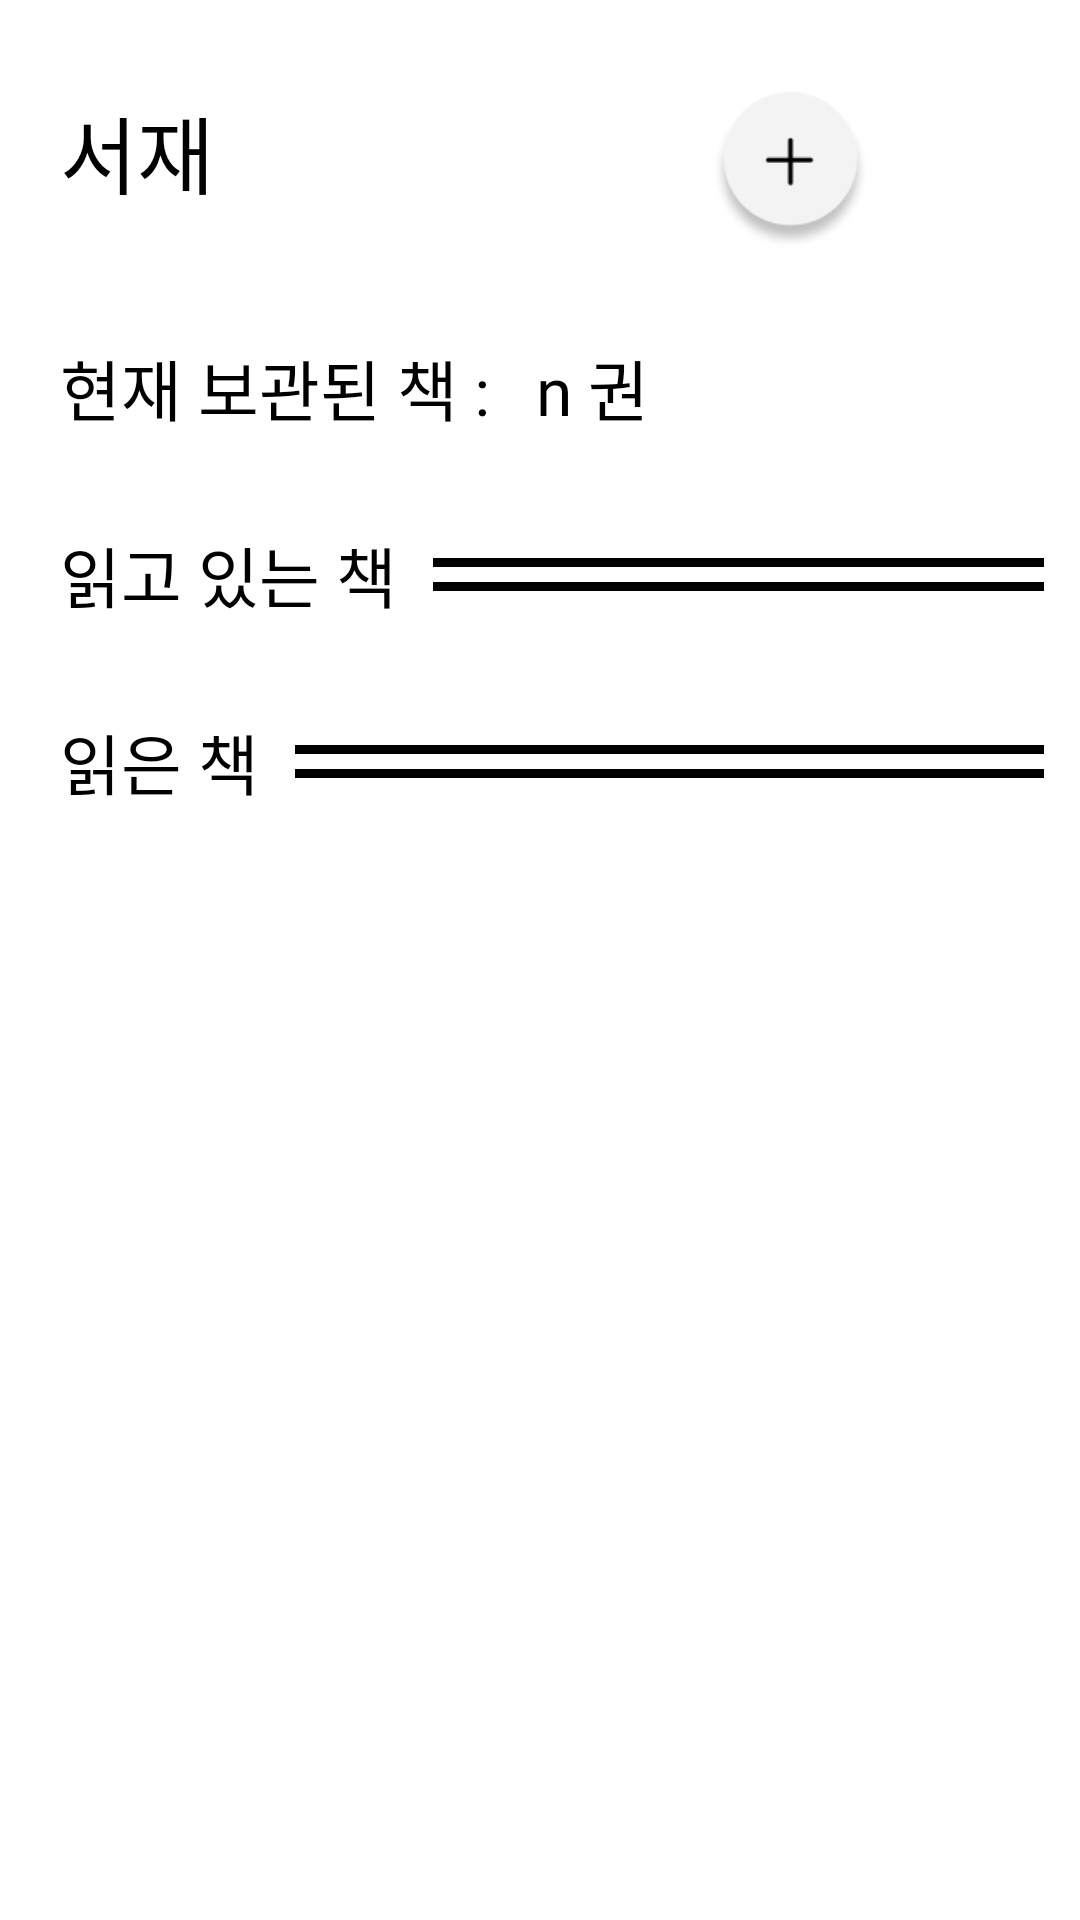

Where to tap for icons on this 1080w x 1920h app screen, as point (x, y):
bookshelf plus: point (790, 167)
